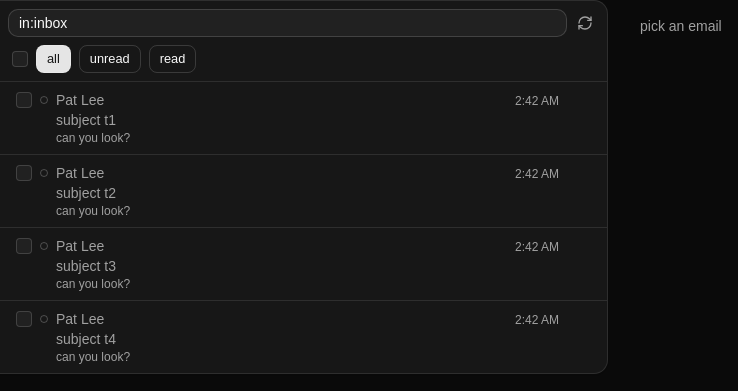
Scenario: Mail multi-select › checks threads, shift-clicks a range and deletes them together
Click the checkbox named "select subject t1" at (24, 100), box left=16, top=92, right=32, bottom=108
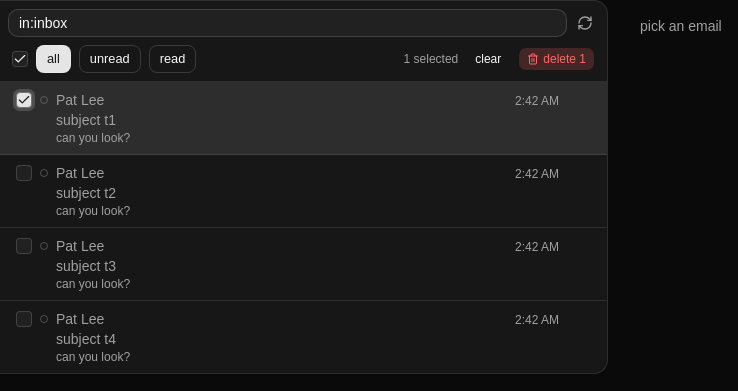
Type keys "{Shift>}"
Click the checkbox named "select subject t3" at (24, 246), box left=16, top=238, right=32, bottom=254
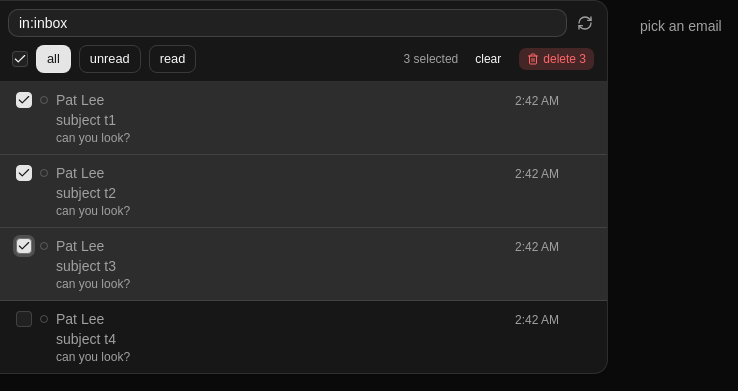
Type keys "{/Shift}"
Result: the text "3 selected" is shown at left=404, top=51, right=458, bottom=67
Click the button "delete 3" at (557, 59), box left=518, top=47, right=595, bottom=71
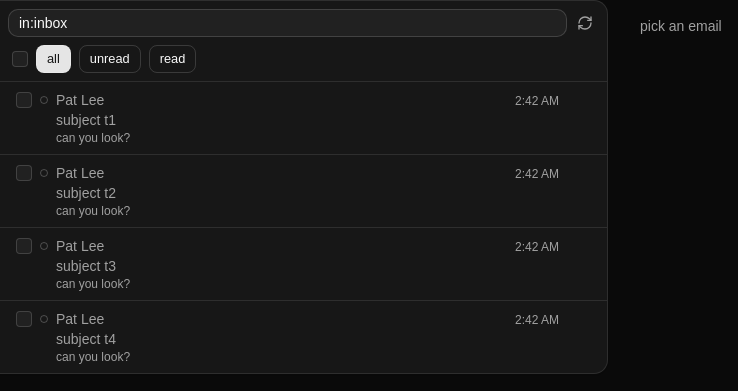
Result: the text "3 selected" is gone
